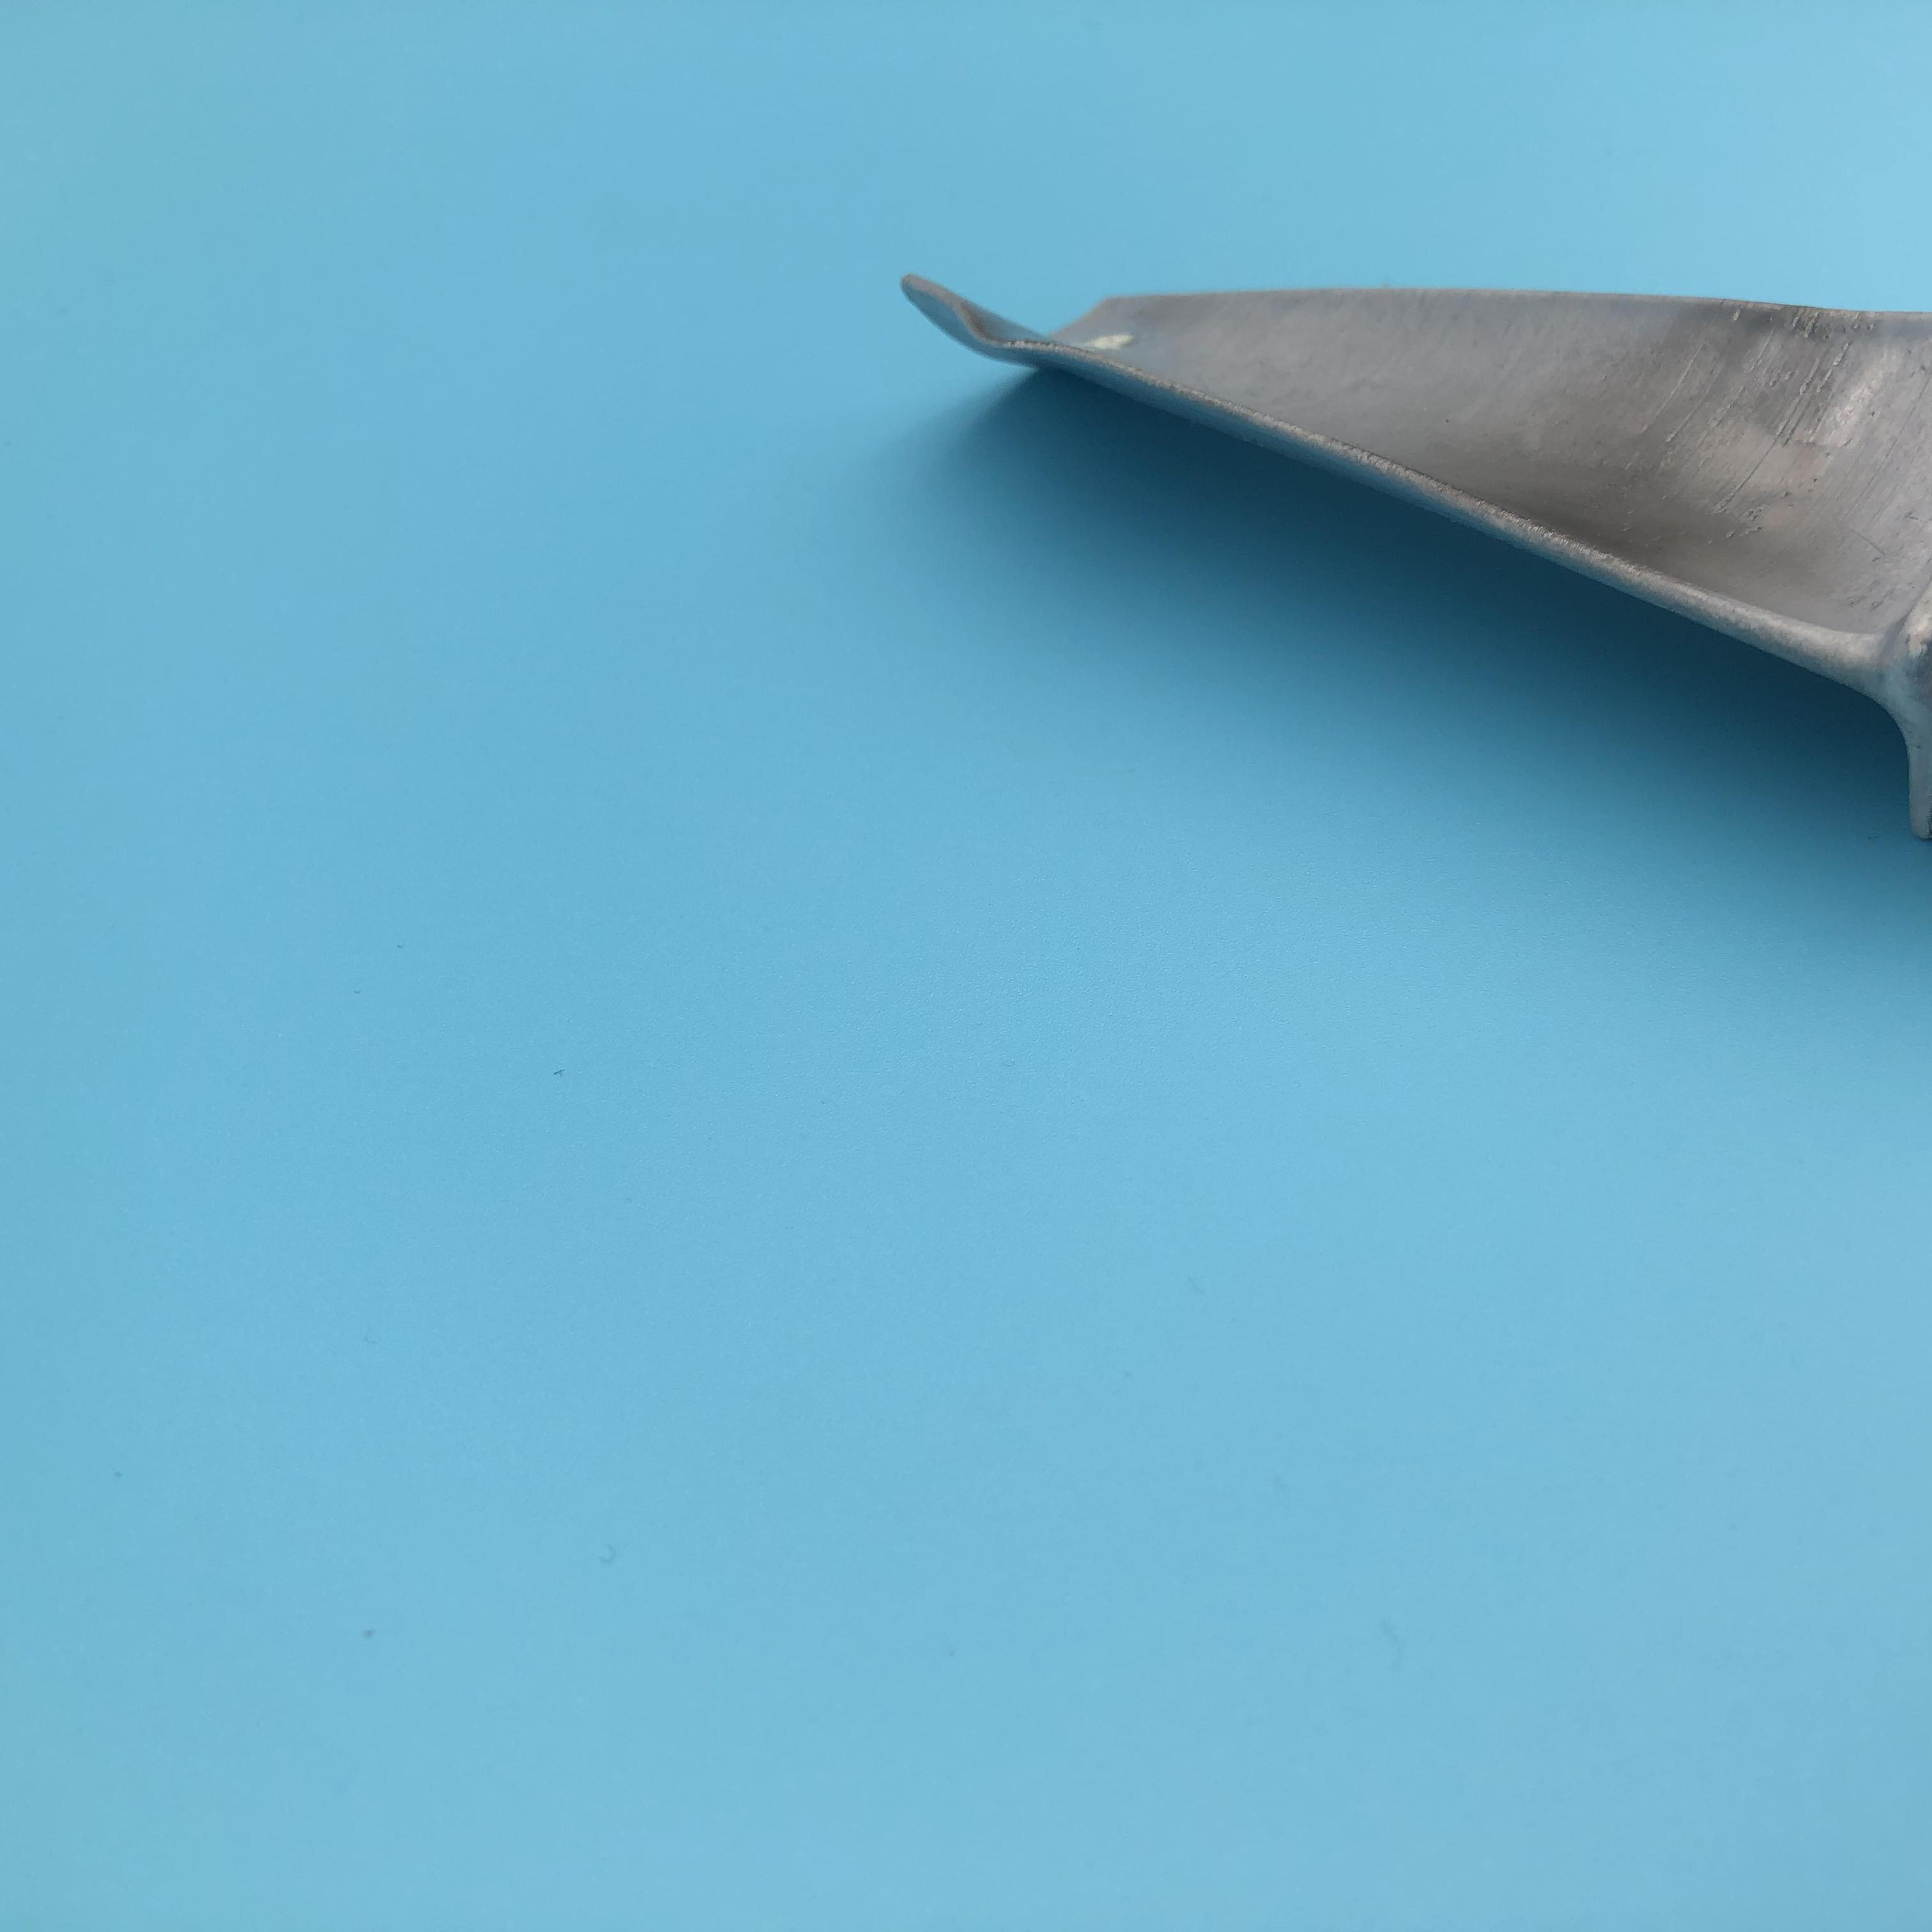ablation: (1573, 343, 1858, 568), (1088, 303, 1194, 354)
